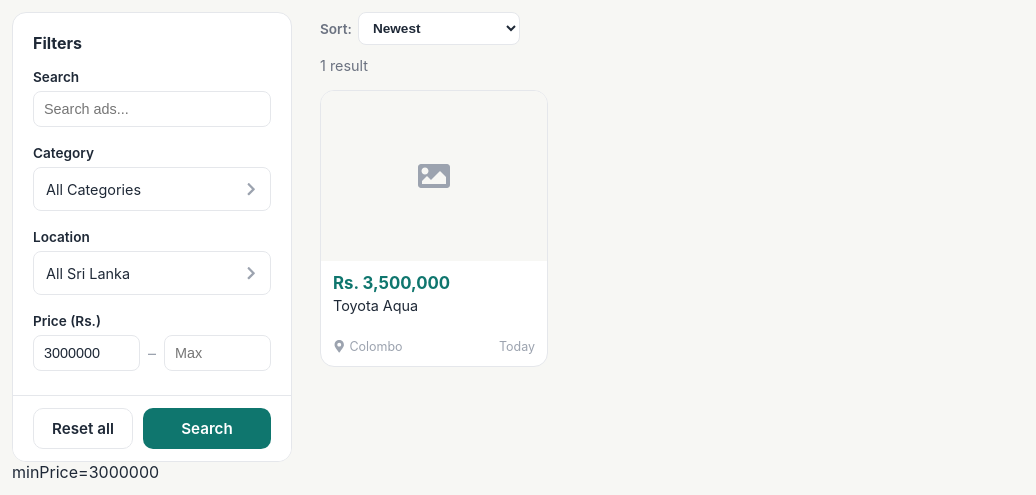
AdSearchResults › Reset all clears the draft back to defaults without touching applied results
The width and height of the screenshot is (1036, 495).
Expected: the text "Toyota Aqua" is shown, top-left (333, 296), bottom-right (418, 314)
Expected: the text "Honda Fit" is not shown
Click the button "Reset all".
click(83, 428)  # box top-left (33, 408), bottom-right (133, 449)
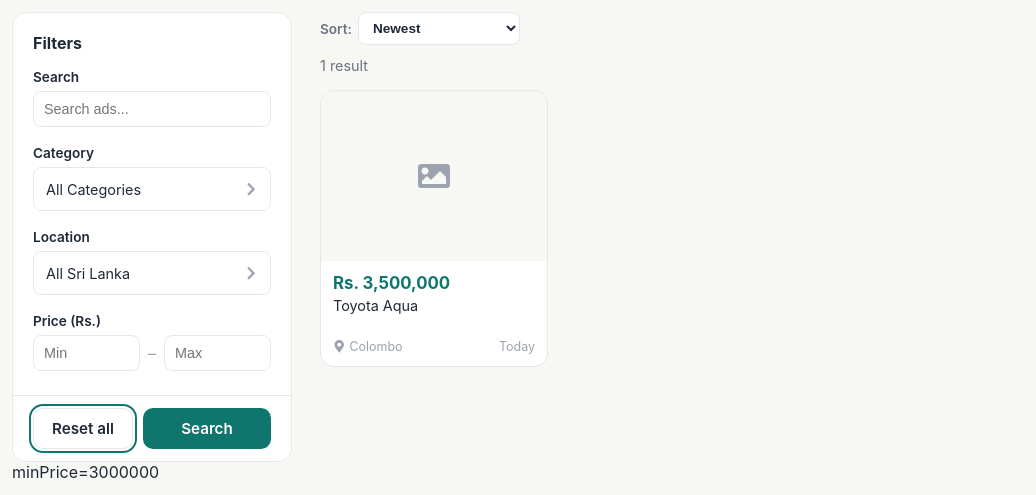
Click the button "Search".
click(207, 428)  # box top-left (143, 408), bottom-right (271, 449)
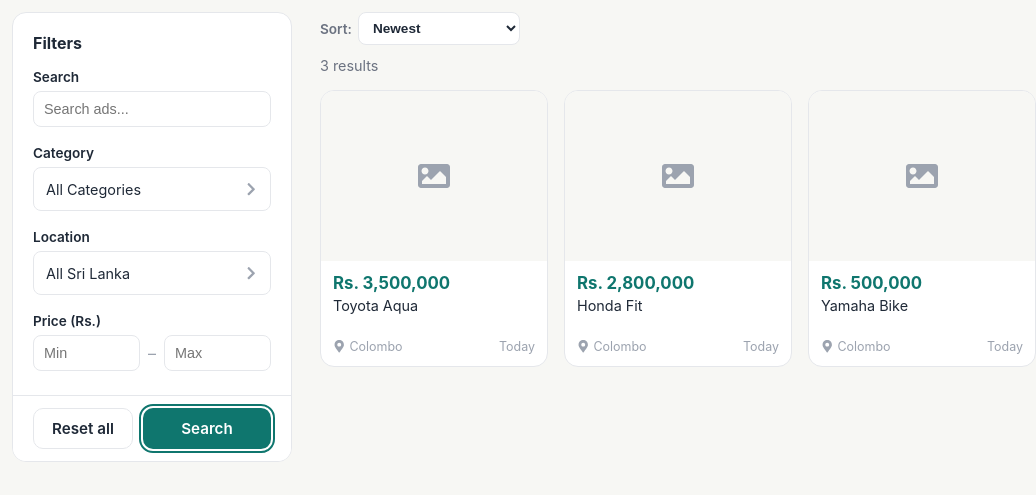
Expected: the text "Honda Fit" is shown, top-left (577, 296), bottom-right (642, 314)
Expected: the text "Yamaha Bike" is shown, top-left (821, 296), bottom-right (908, 314)
